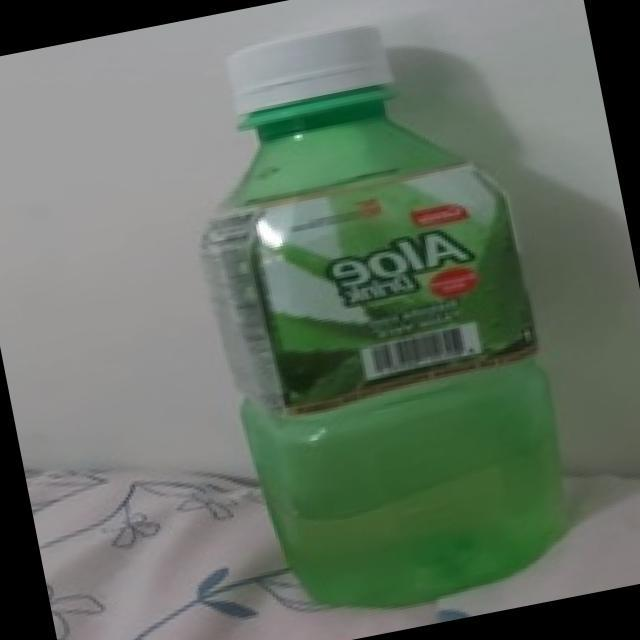good: (147, 0, 599, 636)
